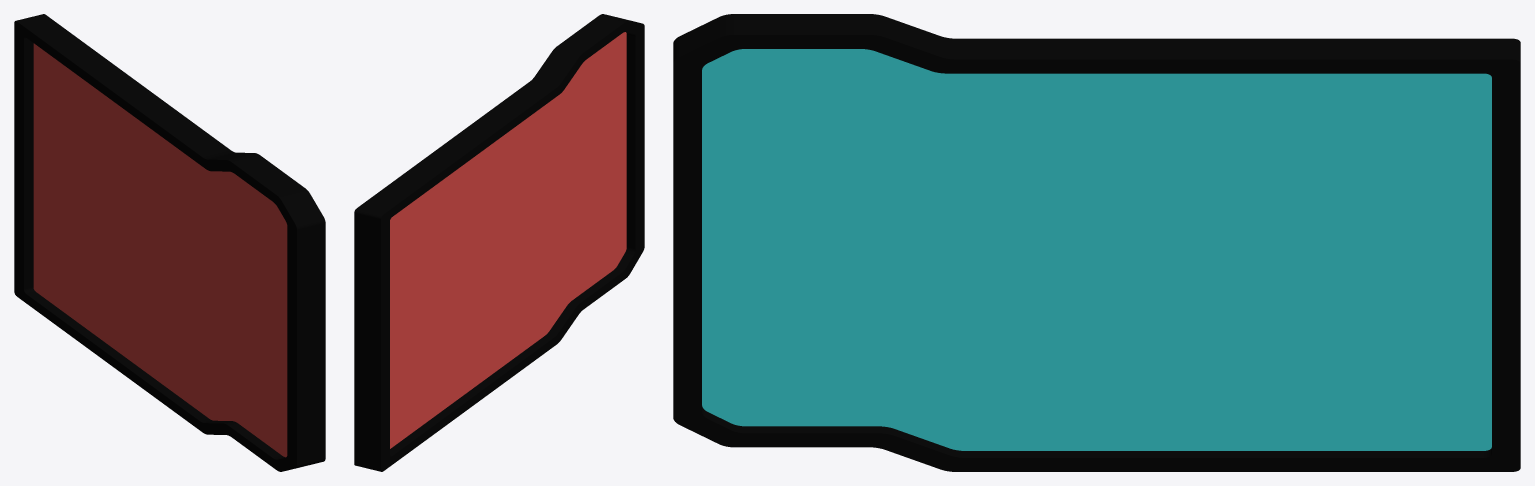
File: Picture Frame.fbx
The picture shows the model from 3 angles, left to right: view 1: azimuth 30°, elevation 25°; view 2: azimuth 150°, elevation 25°; view 3: azimuth 270°, elevation 25°; orthographic projection. The views are drawn at different scales.
Parts seen in each view (by area): view 1: Cube; view 2: Cube; view 3: Cube.
Boxes of the visible parts, x1,y1,x2,y2 form: Cube: (14, 14, 325, 471); Cube: (354, 14, 644, 471); Cube: (673, 14, 1520, 471).
Bounding box in the file's own units: 21.75 × 212 × 372.
